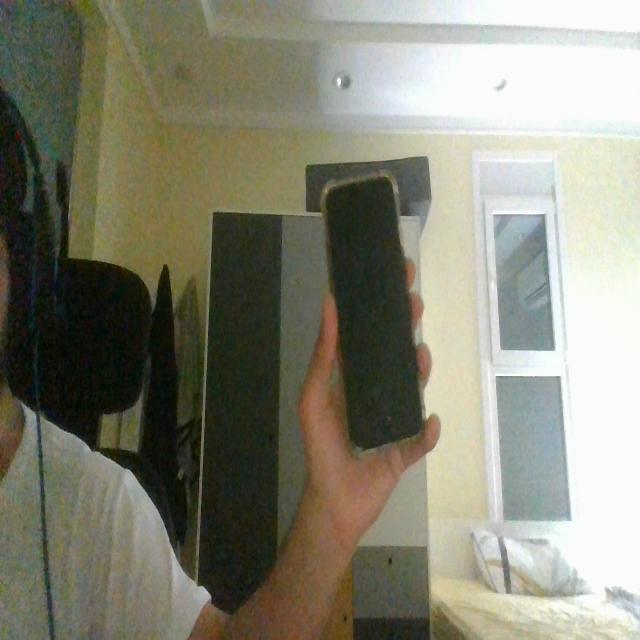Phone: (319, 170, 431, 457)
